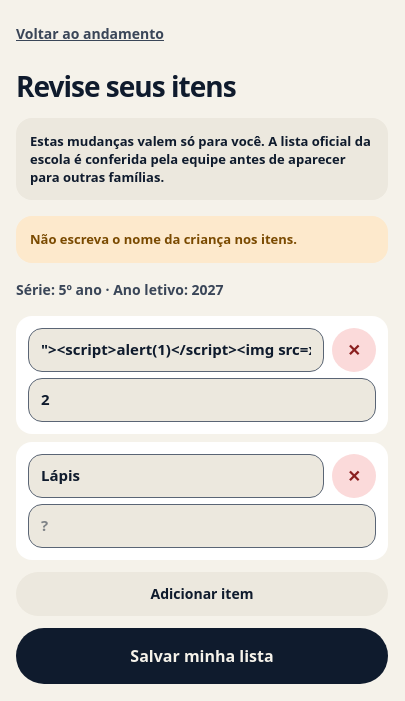
Test: ParentCopyEditor › stale: aviso com role=alert e sem link do carrinho
(page scrolled)
What coordinates should you click on to do the following:
click the button "Salvar minha lista"
I would click on:
 (202, 656)
Its box is [16,628,388,684].
(page scrolled)
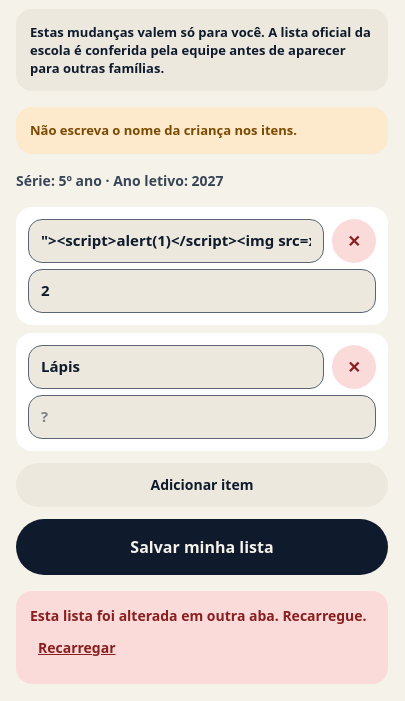
Expected: the message shows "alterada em outra aba", [30,606,367,624]
